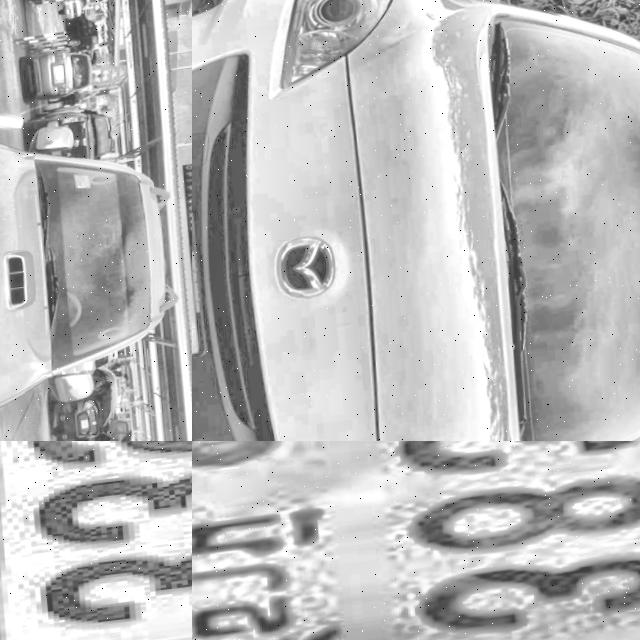license-plate: (192, 441, 640, 640), (0, 441, 192, 640), (47, 71, 62, 91), (68, 427, 85, 440)
